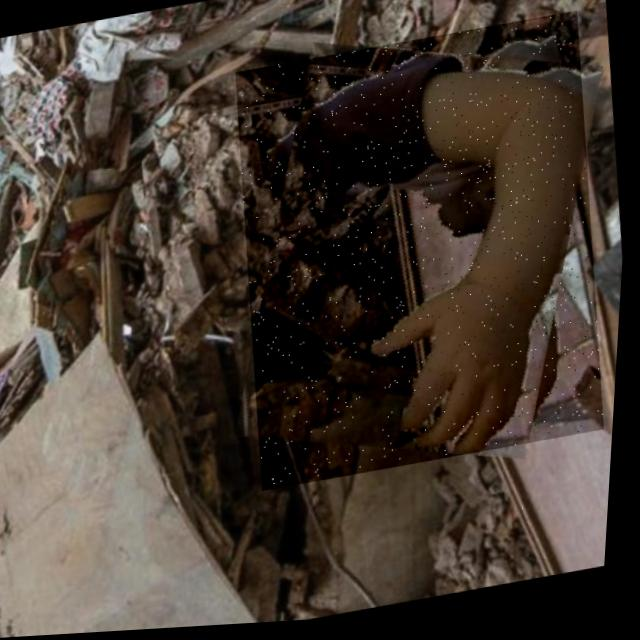Person in Rubble: (216, 14, 629, 496)
